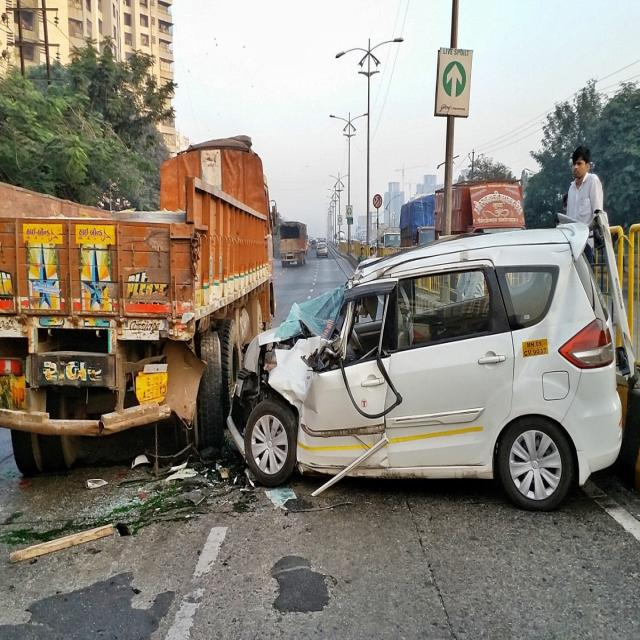accident: (228, 223, 621, 509)
truck: (0, 136, 275, 474)
